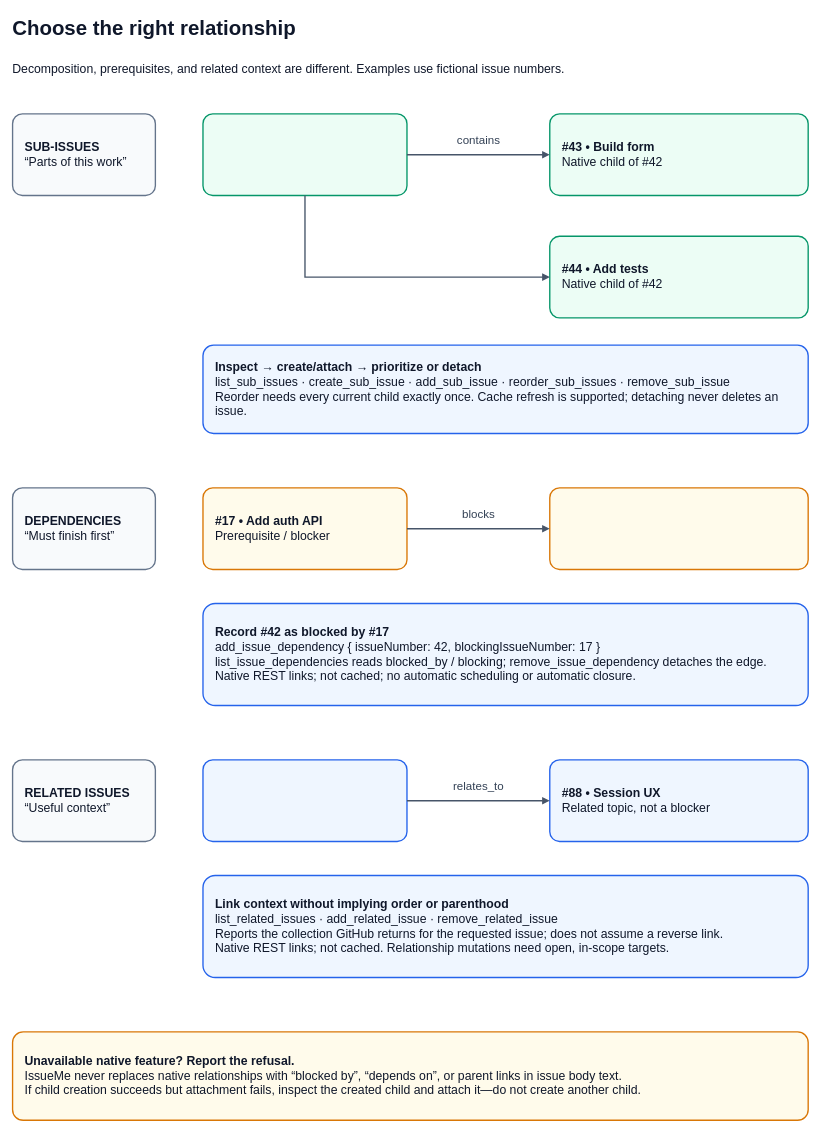
Some shapes in this 820 by 1132 pixel diagram are drawn without their labels. The shapes that lost their labels are listed below. From the top down, each one's centre as x and y in pixels, then its label:
At (304,154): "#42 • Ship sign-in Parent / larger task".
At (679,528): "#42 • Ship sign-in Dependent / blocked issue".
At (304,800): "#42 • Ship sign-in Requested issue".
